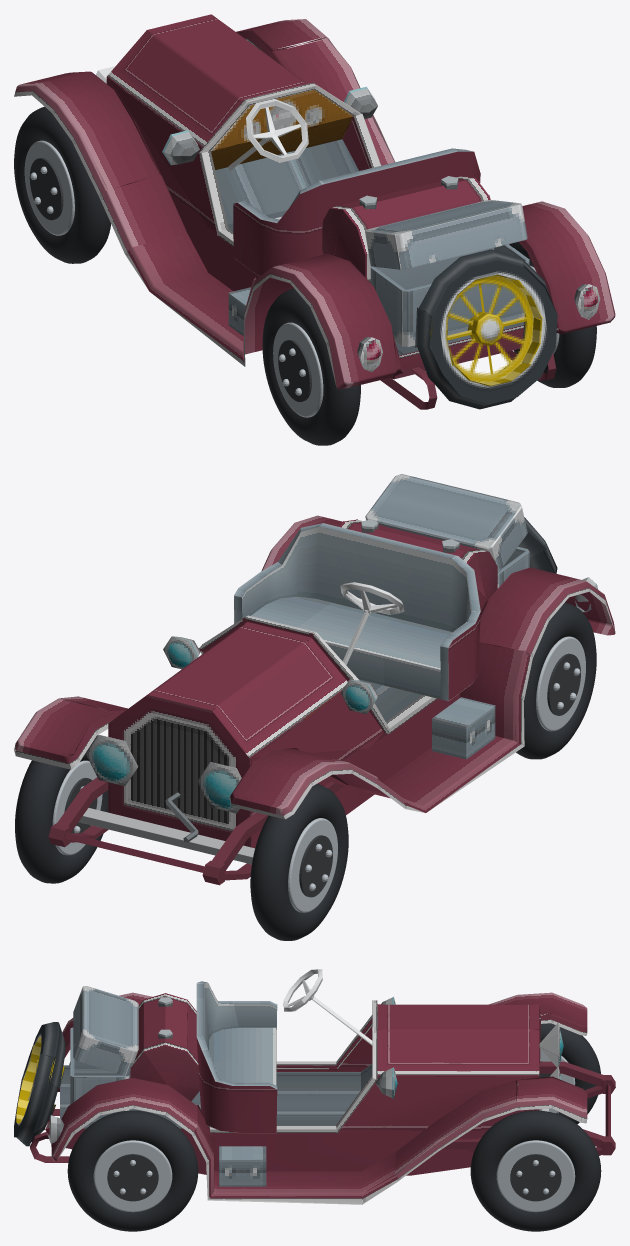
File: car-burns_v.glb
3 renders of one model, top to bottom at view 1: azimuth 30°, elevation 25°; view 2: azimuth 150°, elevation 25°; view 3: azimuth 270°, elevation 25°, orthographic. The views are drawn at different scales.
Parts seen in each view (by area): view 1: burns_vShape.005, burns_vShape.001, burns_vShape.004, burns_vShape.007, burns_vShape.002, HoodRotShape.004, TrunkRotShape.002, Rounded tire.013, Rounded tire.012, Rounded tire.015, Alloy rim.012, Alloy rim.013 (+2 smaller); view 2: burns_vShape.004, burns_vShape.005, burns_vShape.001, burns_vShape.003, HoodRotShape.004, TrunkRotShape.002, Rounded tire.013, Rounded tire.014, burns_vShape.002, Rounded tire.012, Alloy rim.012, Alloy rim.013 (+4 smaller); view 3: burns_vShape.005, burns_vShape.004, burns_vShape.002, HoodRotShape.004, Rounded tire.015, Rounded tire.014, TrunkRotShape.002, burns_vShape.007, Alloy rim.014, Alloy rim.015, burns_vShape.001, Rim recess.029 (+2 smaller).
Part boxes in pixels (x1=…): burns_vShape.005: x1=14, y1=14, x2=556, y2=409; burns_vShape.001: x1=15, y1=71, x2=403, y2=389; burns_vShape.004: x1=96, y1=66, x2=600, y2=372; burns_vShape.007: x1=415, y1=249, x2=557, y2=409; burns_vShape.002: x1=236, y1=19, x2=615, y2=334; HoodRotShape.004: x1=119, y1=17, x2=306, y2=138; TrunkRotShape.002: x1=365, y1=200, x2=527, y2=269; Rounded tire.013: x1=14, y1=106, x2=110, y2=263; Rounded tire.012: x1=262, y1=288, x2=360, y2=445; Rounded tire.015: x1=509, y1=242, x2=596, y2=387; Alloy rim.012: x1=273, y1=322, x2=323, y2=417; Alloy rim.013: x1=24, y1=140, x2=74, y2=235; burns_vShape.004: x1=78, y1=519, x2=597, y2=864; burns_vShape.005: x1=14, y1=519, x2=614, y2=885; burns_vShape.001: x1=230, y1=567, x2=615, y2=815; burns_vShape.003: x1=108, y1=695, x2=251, y2=847; HoodRotShape.004: x1=151, y1=625, x2=339, y2=746; TrunkRotShape.002: x1=365, y1=474, x2=527, y2=573; Rounded tire.013: x1=250, y1=784, x2=348, y2=940; Rounded tire.014: x1=15, y1=735, x2=108, y2=883; burns_vShape.002: x1=15, y1=515, x2=342, y2=763; Rounded tire.012: x1=516, y1=602, x2=596, y2=759; Alloy rim.012: x1=536, y1=636, x2=585, y2=731; Alloy rim.013: x1=288, y1=818, x2=337, y2=912; burns_vShape.005: x1=30, y1=993, x2=615, y2=1204; burns_vShape.004: x1=45, y1=969, x2=563, y2=1186; burns_vShape.002: x1=51, y1=1076, x2=587, y2=1198; HoodRotShape.004: x1=383, y1=1004, x2=533, y2=1067; Rounded tire.015: x1=67, y1=1110, x2=198, y2=1231; Rounded tire.014: x1=470, y1=1110, x2=601, y2=1231; TrunkRotShape.002: x1=73, y1=986, x2=138, y2=1075; burns_vShape.007: x1=14, y1=1022, x2=65, y2=1146; Alloy rim.014: x1=496, y1=1140, x2=575, y2=1212; Alloy rim.015: x1=93, y1=1140, x2=172, y2=1212; burns_vShape.001: x1=62, y1=992, x2=587, y2=1057; Rim recess.029: x1=510, y1=1154, x2=561, y2=1201.
Size of the model in its own units: 1.93 by 1.56 by 4.42.
Materials: 11 (8 with a texture image).
